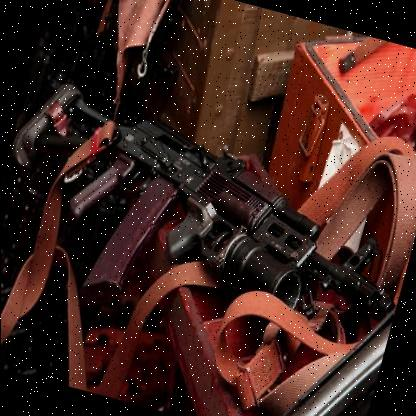rifle: (0, 85, 409, 366)
